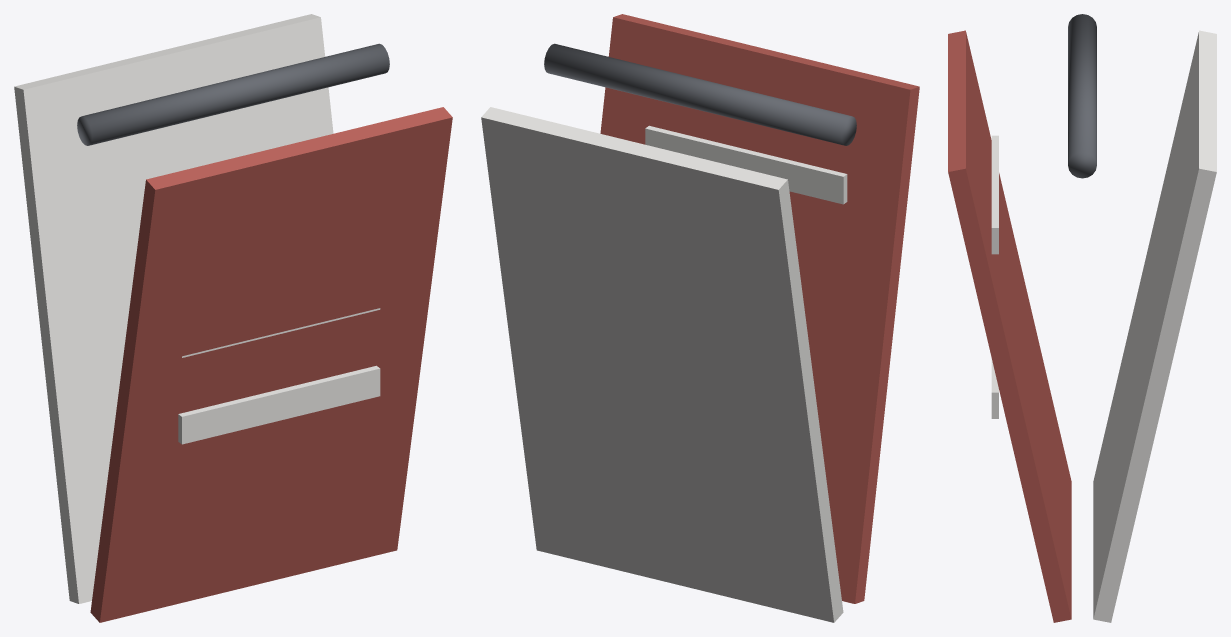
The model's file is prop_tate_aframe_red.glb.
3 views of the same model, side by side, from view 1: azimuth 30°, elevation 25°; view 2: azimuth 150°, elevation 25°; view 3: azimuth 270°, elevation 25° (orthographic). The views are drawn at different scales.
Visible parts, largest first — view 1: tate_aframe_red; view 2: tate_aframe_red; view 3: tate_aframe_red.
Boxes of the visible parts, box(x1,y1,x2,y2) form: tate_aframe_red: box(14, 14, 452, 622); tate_aframe_red: box(481, 14, 919, 622); tate_aframe_red: box(948, 14, 1216, 622).
Bounding box in the file's own units: 0.9 × 1.43 × 0.74.
